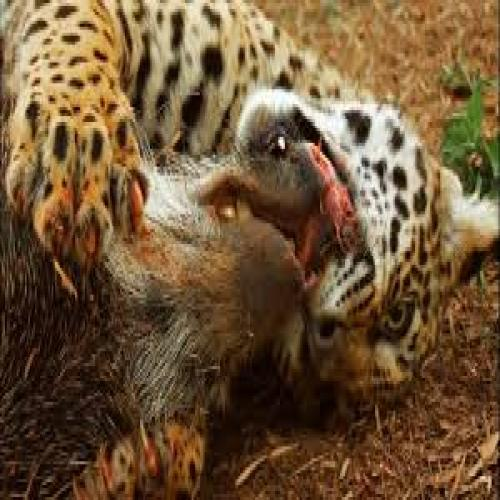jaguar_not-endangered: (7, 10, 490, 489)
